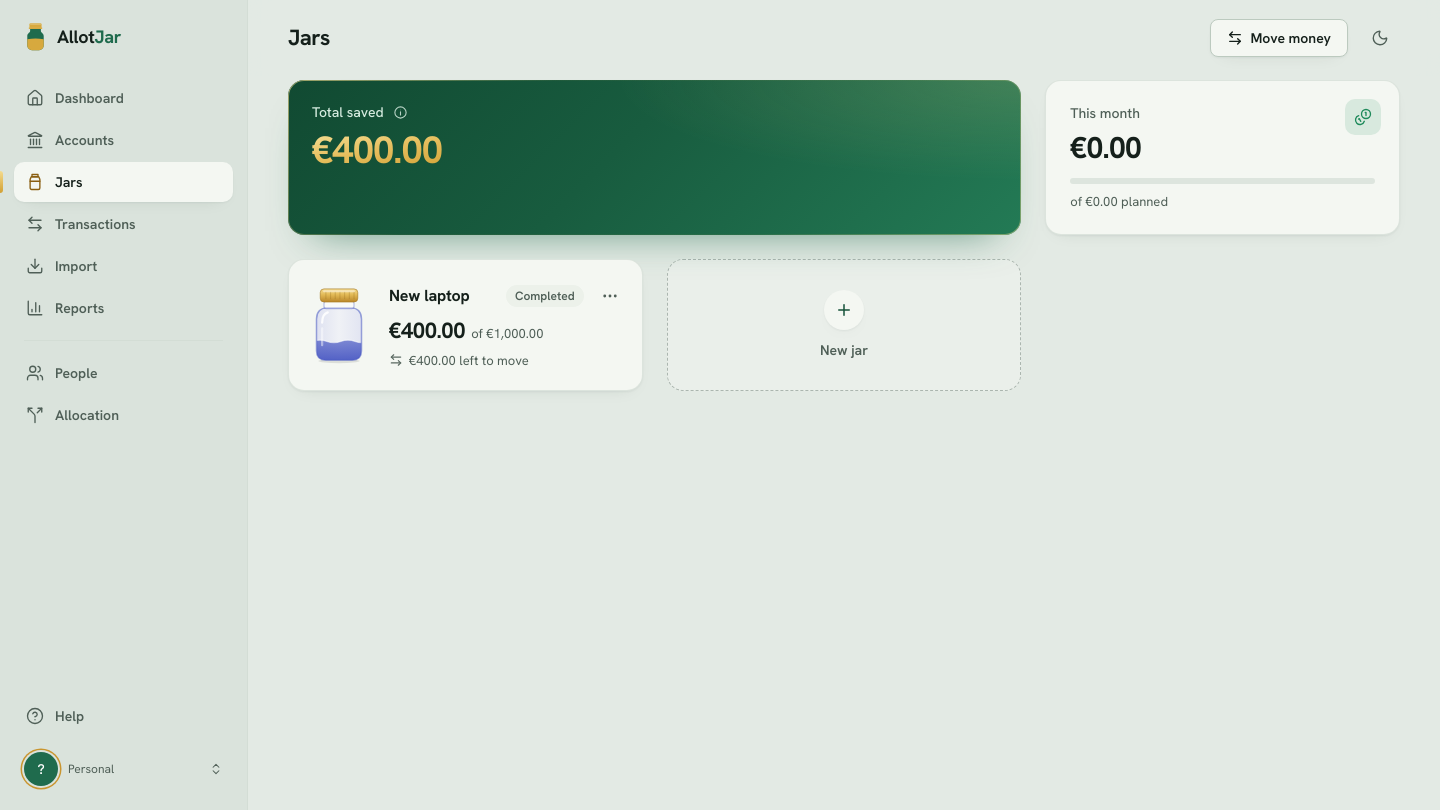
Test case: JarsPage — completion and deletion (W04) › a completed Goal's edit form offers no Repeats: it can't start repeating (the server refuses it, rule 55)
The image size is (1440, 810).
What coordinates should you click on to do the following:
click the button named "New laptop: more actions"
I would click on:
 (610, 296)
Its box is [590,276,630,316].
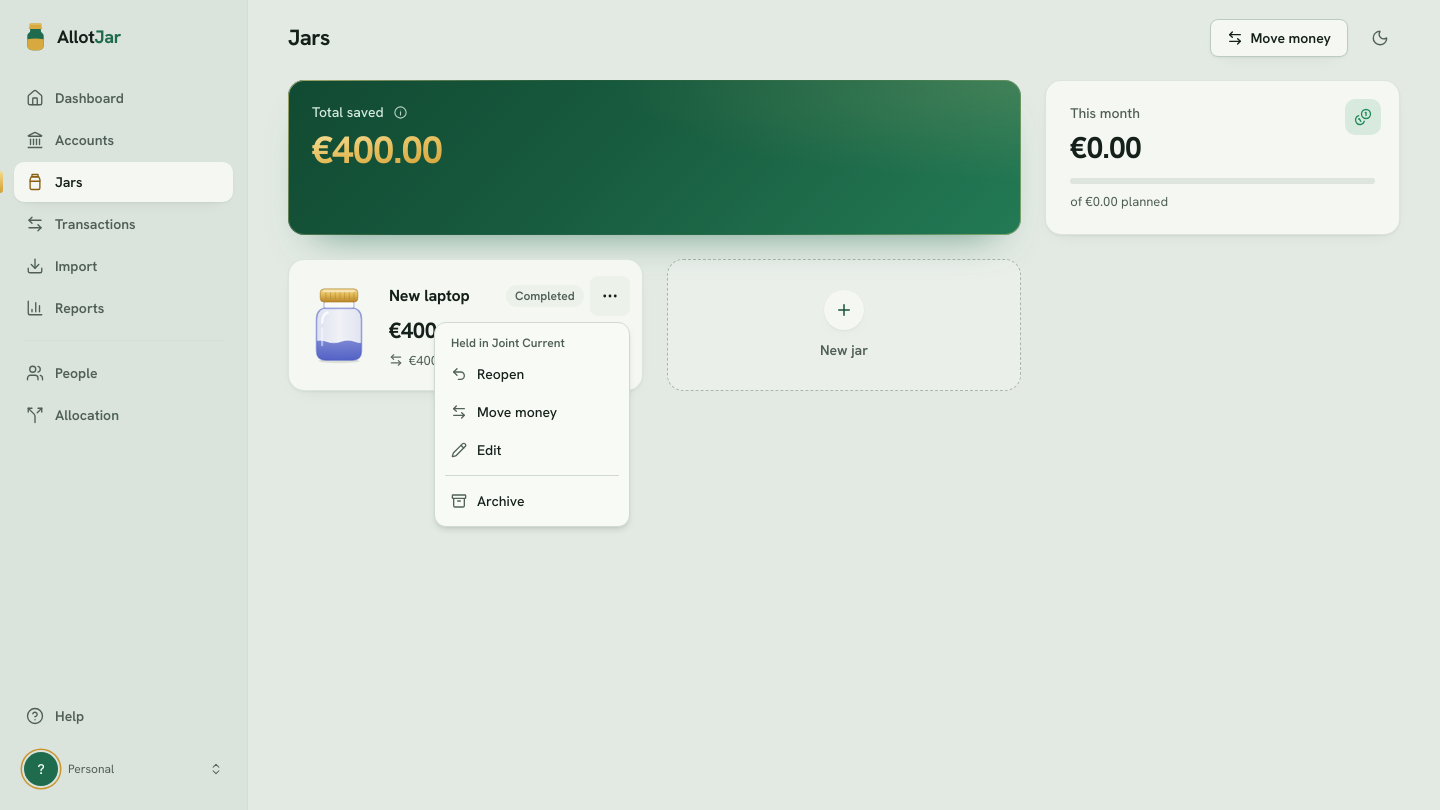
What coordinates should you click on to do the following:
click the menu item "Edit"
I would click on:
 (476, 450)
Its box is [451,441,501,459].
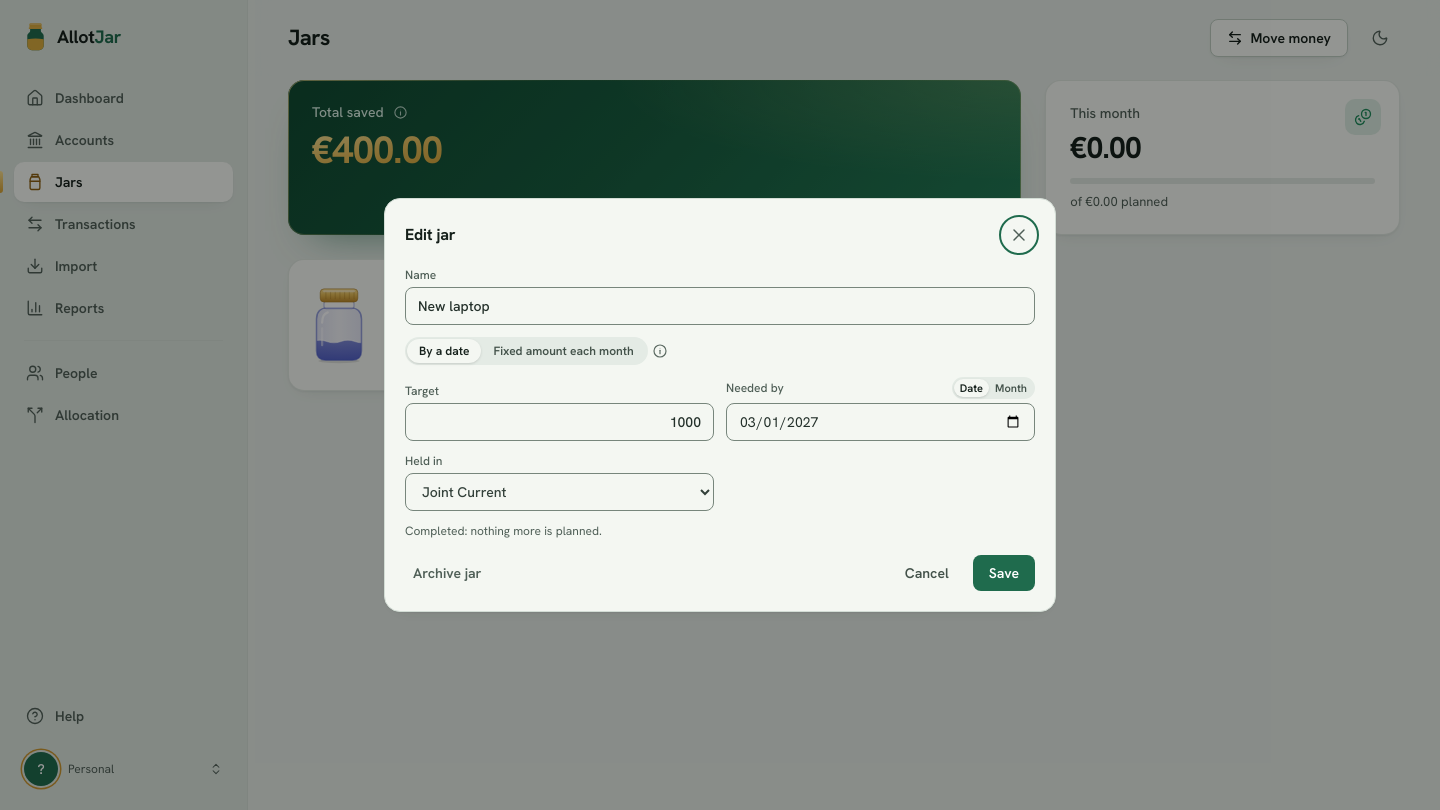
Expected: the text "Completed: nothing more is planned." is shown, [405,523,602,539]
Expected: the date field named "Needed by" holds "2027-03-01", [726,403,1035,441]
